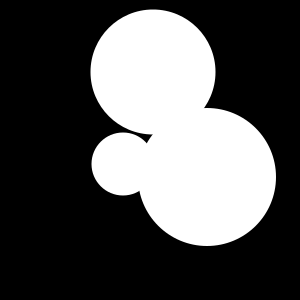rectangle: (138, 108, 276, 246), (90, 9, 216, 134), (92, 132, 154, 195)
